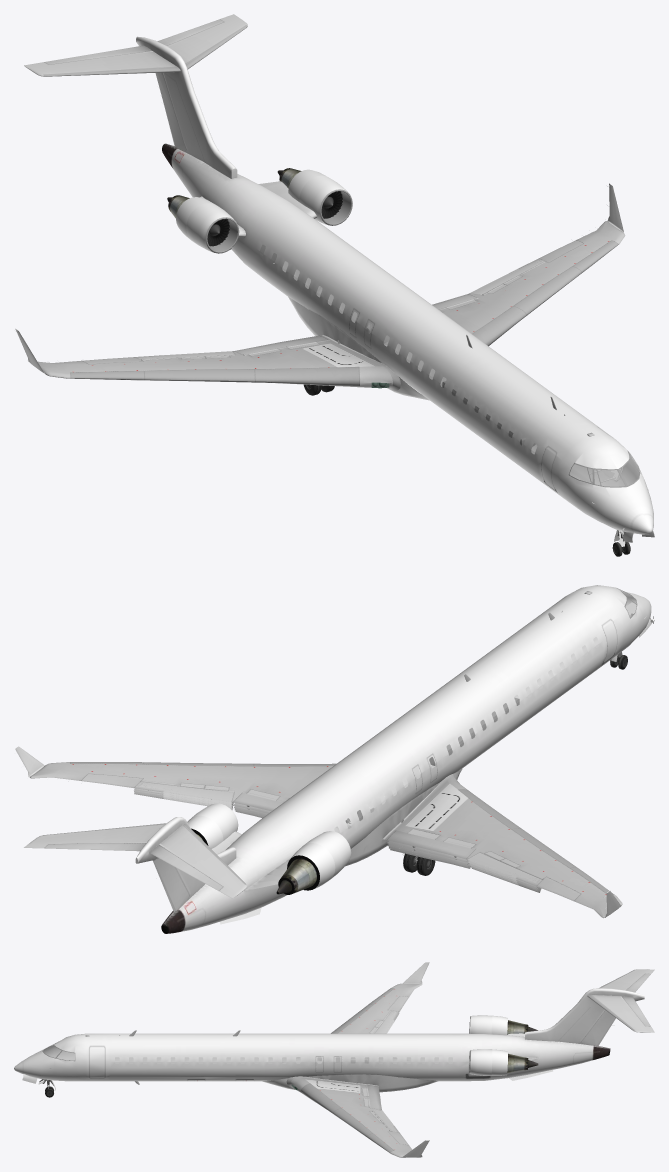
File: Blank.gltf
The picture shows the model from 3 angles, top to bottom: view 1: azimuth 30°, elevation 25°; view 2: azimuth 150°, elevation 25°; view 3: azimuth 270°, elevation 25°; orthographic projection. The views are drawn at different scales.
Visible parts, largest first — view 1: Exterior, Pose_flaps_0; view 2: Exterior, Pose_flaps_0, Pose_flaps_4, XLive_4, Pose_flaps_1, Pose_flaps_2, XLive_3, XLive_2, Pose_flaps_3, XLive_0; view 3: Exterior, Pose_flaps_0, XLive_4.
Boxes of the visible parts, x1,y1,x2,y2 form: Exterior: [15, 14, 653, 556]; Pose_flaps_0: [134, 258, 544, 359]; Exterior: [15, 585, 654, 933]; Pose_flaps_0: [134, 782, 542, 886]; Pose_flaps_4: [134, 780, 543, 892]; XLive_4: [153, 858, 189, 912]; Pose_flaps_1: [134, 788, 537, 888]; Pose_flaps_2: [134, 790, 539, 890]; XLive_3: [149, 844, 222, 890]; XLive_2: [44, 843, 145, 851]; Pose_flaps_3: [134, 792, 542, 891]; XLive_0: [81, 773, 142, 787]; Exterior: [14, 962, 654, 1157]; Pose_flaps_0: [367, 1010, 399, 1132]; XLive_4: [582, 1011, 615, 1045].
Size of the model in its own units: 23.91 by 7.08 by 36.36.
21 materials, 14 textured.
